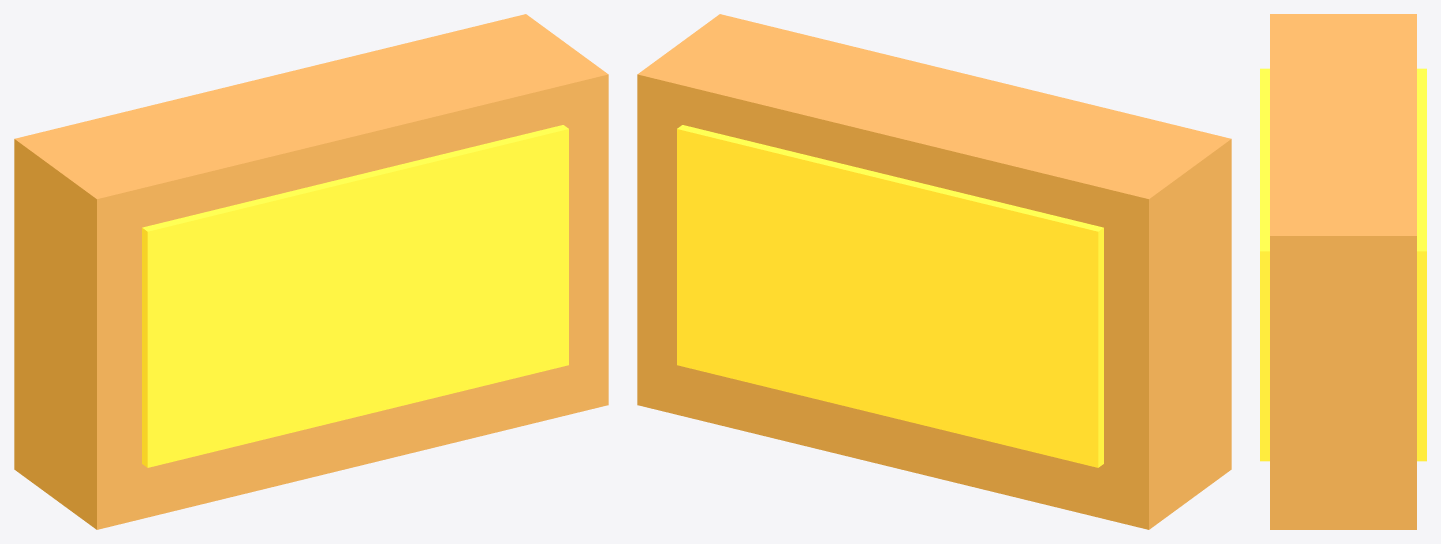
The model's file is turret_barricada.glb.
The picture shows the model from 3 angles, left to right: view 1: azimuth 30°, elevation 25°; view 2: azimuth 150°, elevation 25°; view 3: azimuth 270°, elevation 25°; orthographic projection. The views are drawn at different scales.
Parts seen in each view (by area): view 1: Base, Weapon; view 2: Base, Weapon; view 3: Base, Weapon.
Boxes of the visible parts, x1=… form: Base: x1=14, y1=14, x2=608, y2=529; Weapon: x1=142, y1=125, x2=568, y2=467; Base: x1=637, y1=14, x2=1231, y2=529; Weapon: x1=677, y1=125, x2=1103, y2=467; Base: x1=1270, y1=14, x2=1416, y2=529; Weapon: x1=1260, y1=68, x2=1426, y2=461.
Bounding box in the file's own units: 3.4 × 2.1 × 1.08.
